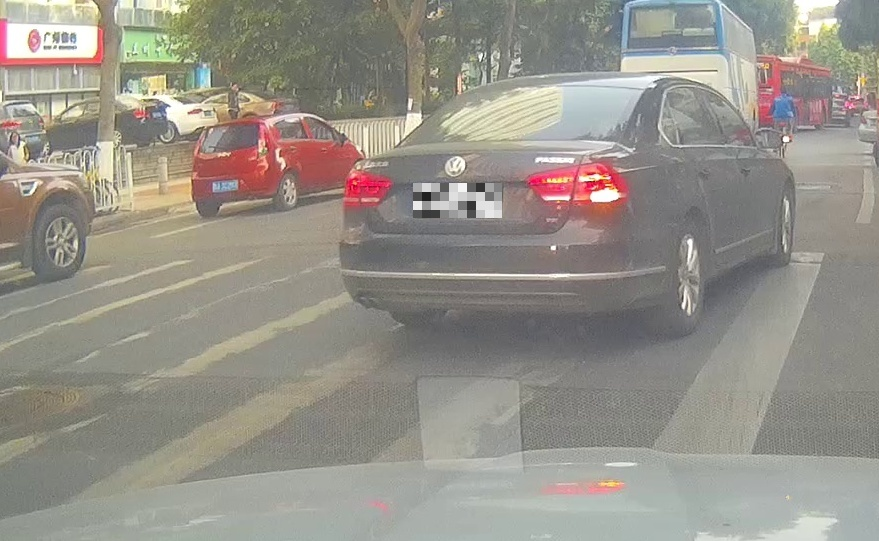L_light: (342, 168, 394, 211), (192, 154, 206, 164)
R_light: (525, 161, 630, 211), (248, 147, 268, 161)
T_light: (514, 86, 551, 99), (222, 124, 237, 127)
day-no: (191, 118, 271, 217)
day-right: (340, 63, 634, 338)
plate_1: (413, 183, 502, 218)
